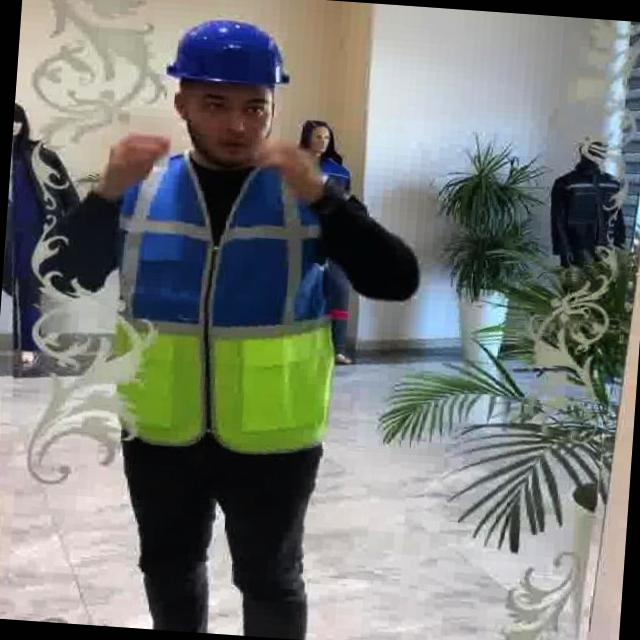vest: (99, 143, 348, 464)
